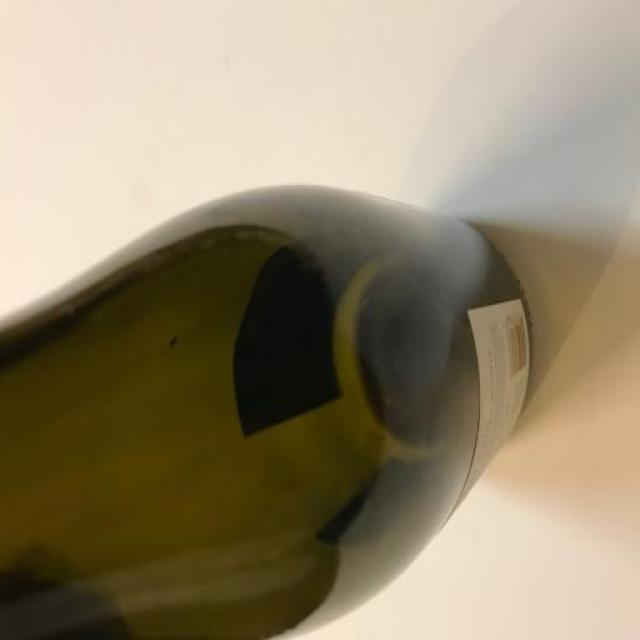Waste: (0, 187, 531, 639)
